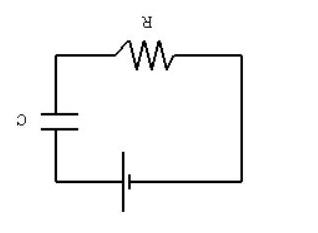Capacitor: (31, 101, 89, 141)
